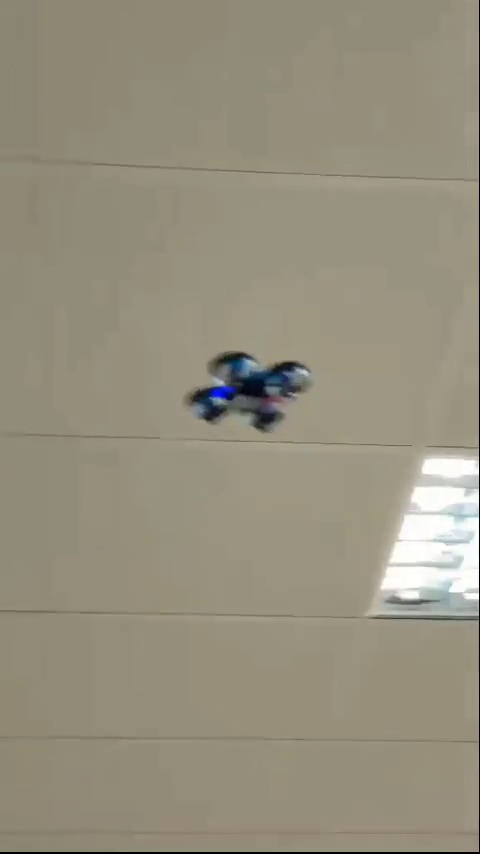drone: (182, 348, 307, 433)
